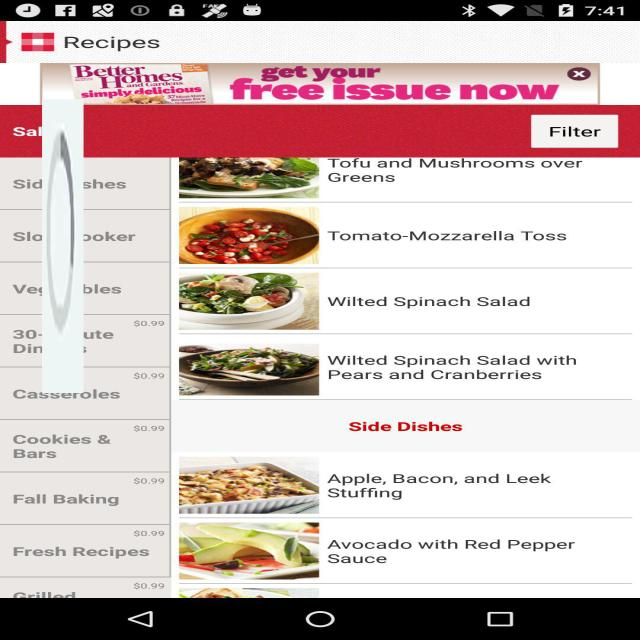misdirection: (42, 99, 84, 393)
